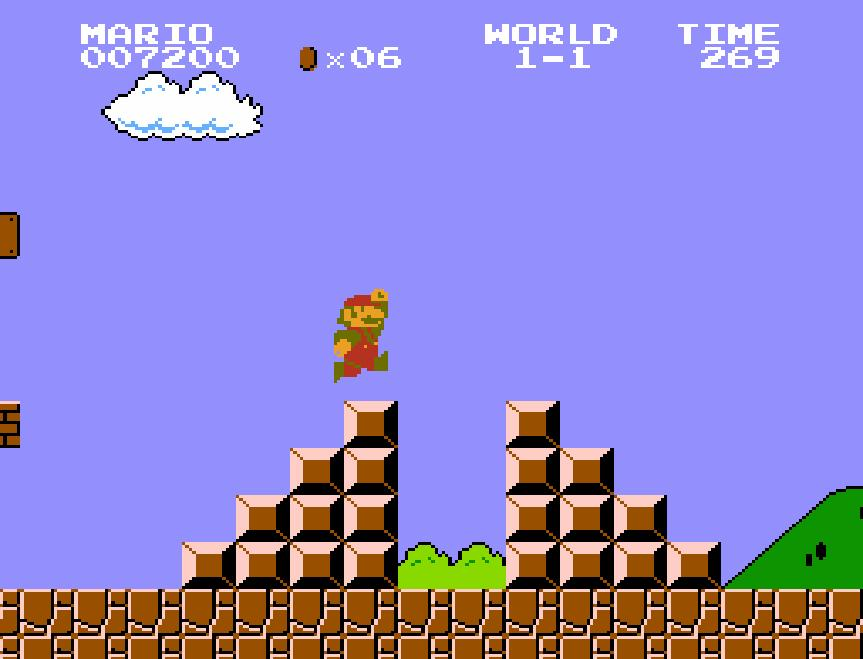big_mario: (332, 286, 390, 384)
